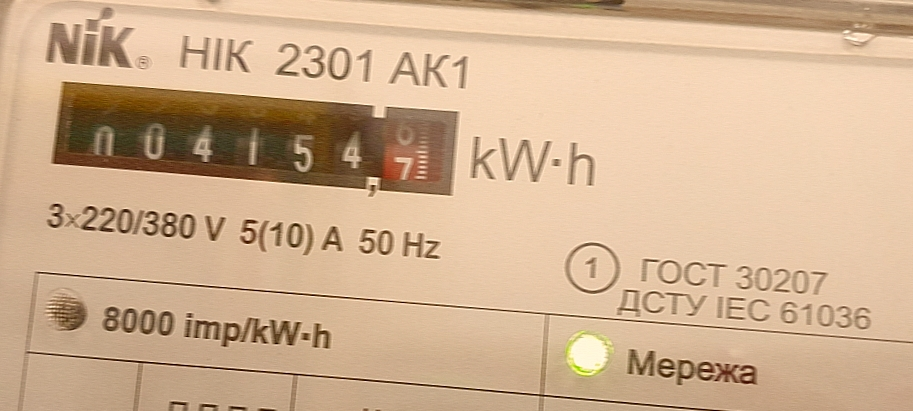0: (141, 118, 167, 161), (91, 120, 117, 156)
1: (245, 124, 262, 166)
4: (190, 120, 216, 164), (340, 125, 364, 170)
5: (290, 127, 318, 173)
6: (393, 115, 418, 146)
7: (391, 151, 414, 181)
screen: (35, 60, 477, 213)
